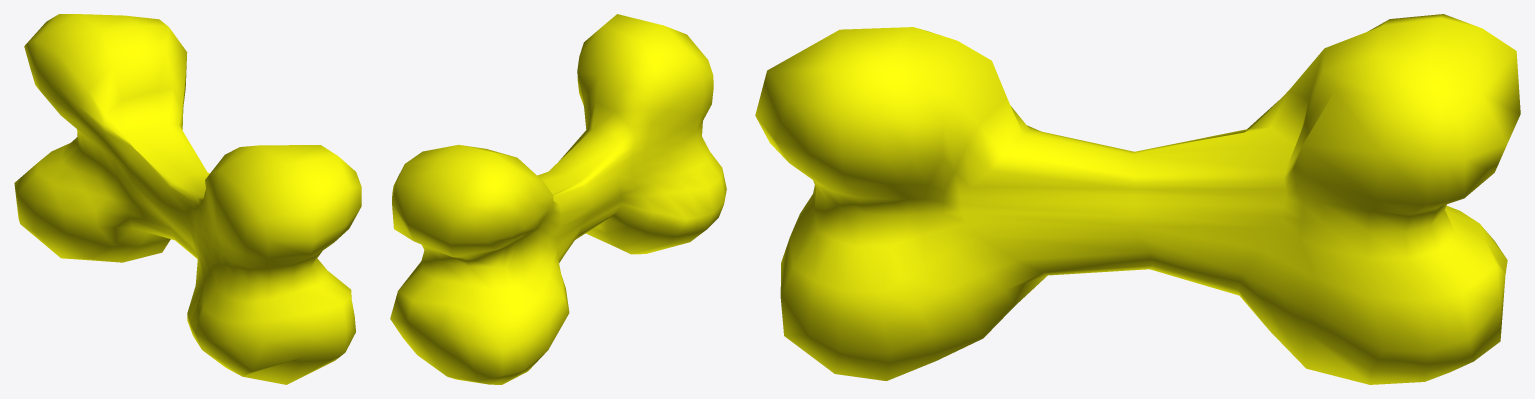
Rendered from bone.glb.
3 renders of one model, left to right at view 1: azimuth 30°, elevation 25°; view 2: azimuth 150°, elevation 25°; view 3: azimuth 270°, elevation 25°, orthographic. The views are drawn at different scales.
Parts seen in each view (by area): view 1: Bone; view 2: Bone; view 3: Bone.
Part boxes in pixels (left/top/right/bottom): Bone: left=14, top=14, right=361, bottom=384; Bone: left=390, top=14, right=726, bottom=384; Bone: left=755, top=14, right=1520, bottom=384.
Size of the model in its own units: 1.96 by 2.77 by 5.57.
